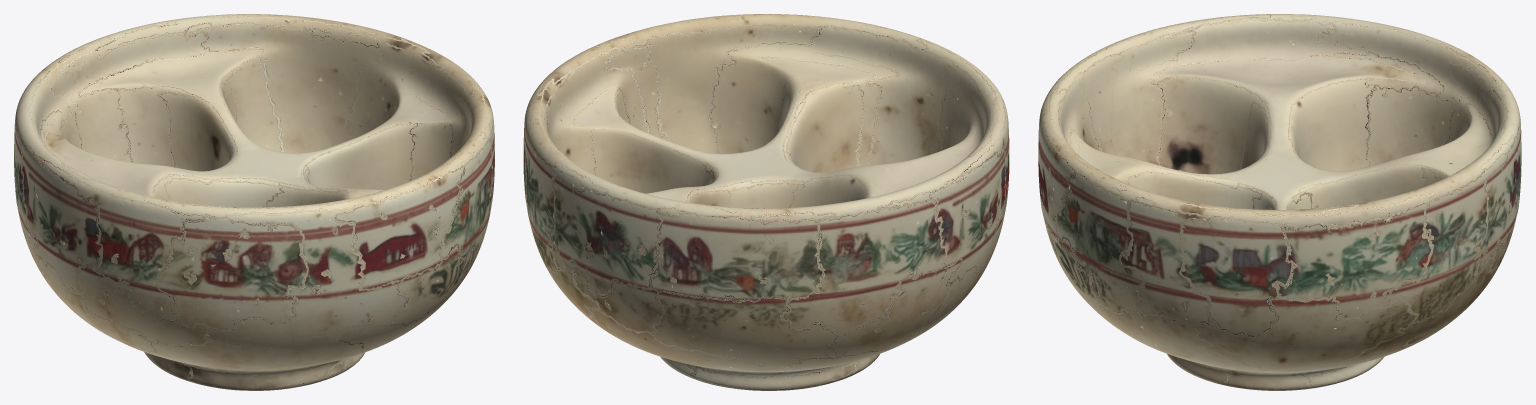
The picture shows the model from 3 angles, left to right: view 1: azimuth 30°, elevation 25°; view 2: azimuth 150°, elevation 25°; view 3: azimuth 270°, elevation 25°; orthographic projection.
Size of the model in its own units: 1.8 by 0.9591 by 1.8.
1 material, 1 textured.
